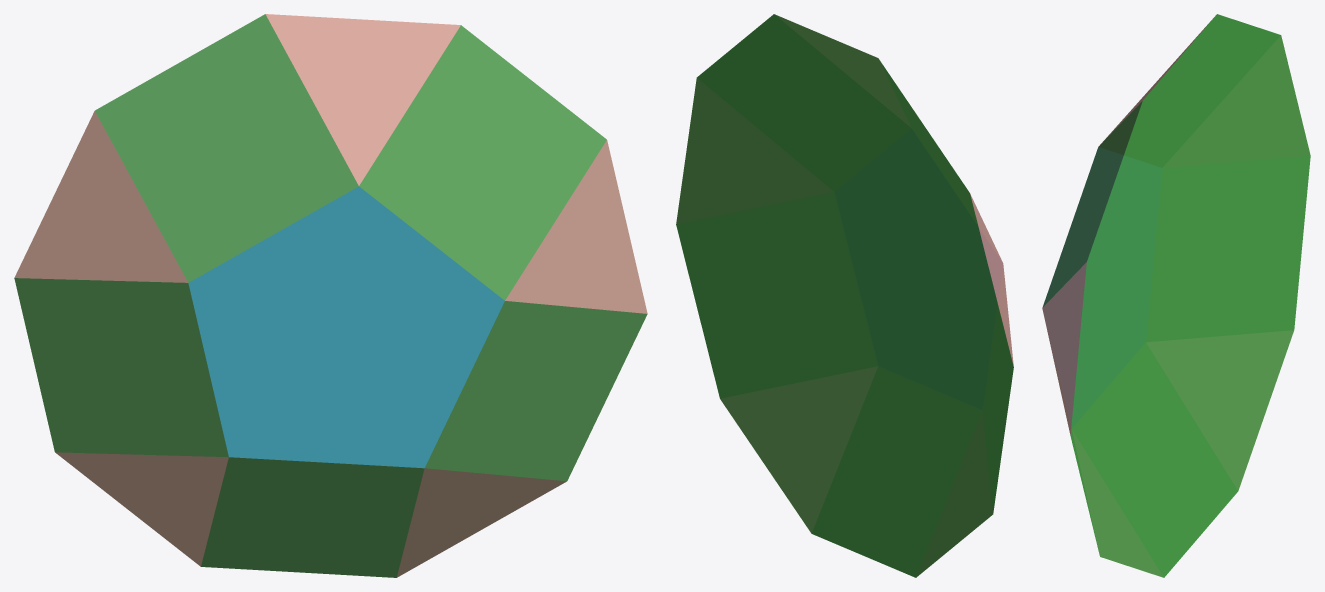
Rendered from j5_pentagonal_cupola.obj.
3 views of the same model, side by side, from view 1: azimuth 30°, elevation 25°; view 2: azimuth 150°, elevation 25°; view 3: azimuth 270°, elevation 25° (orthographic). The views are drawn at different scales.
Bounding box in the file's own units: 2.05 × 2.21 × 1.04.
